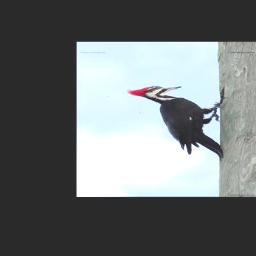Woodpecker: (126, 85, 227, 160)
